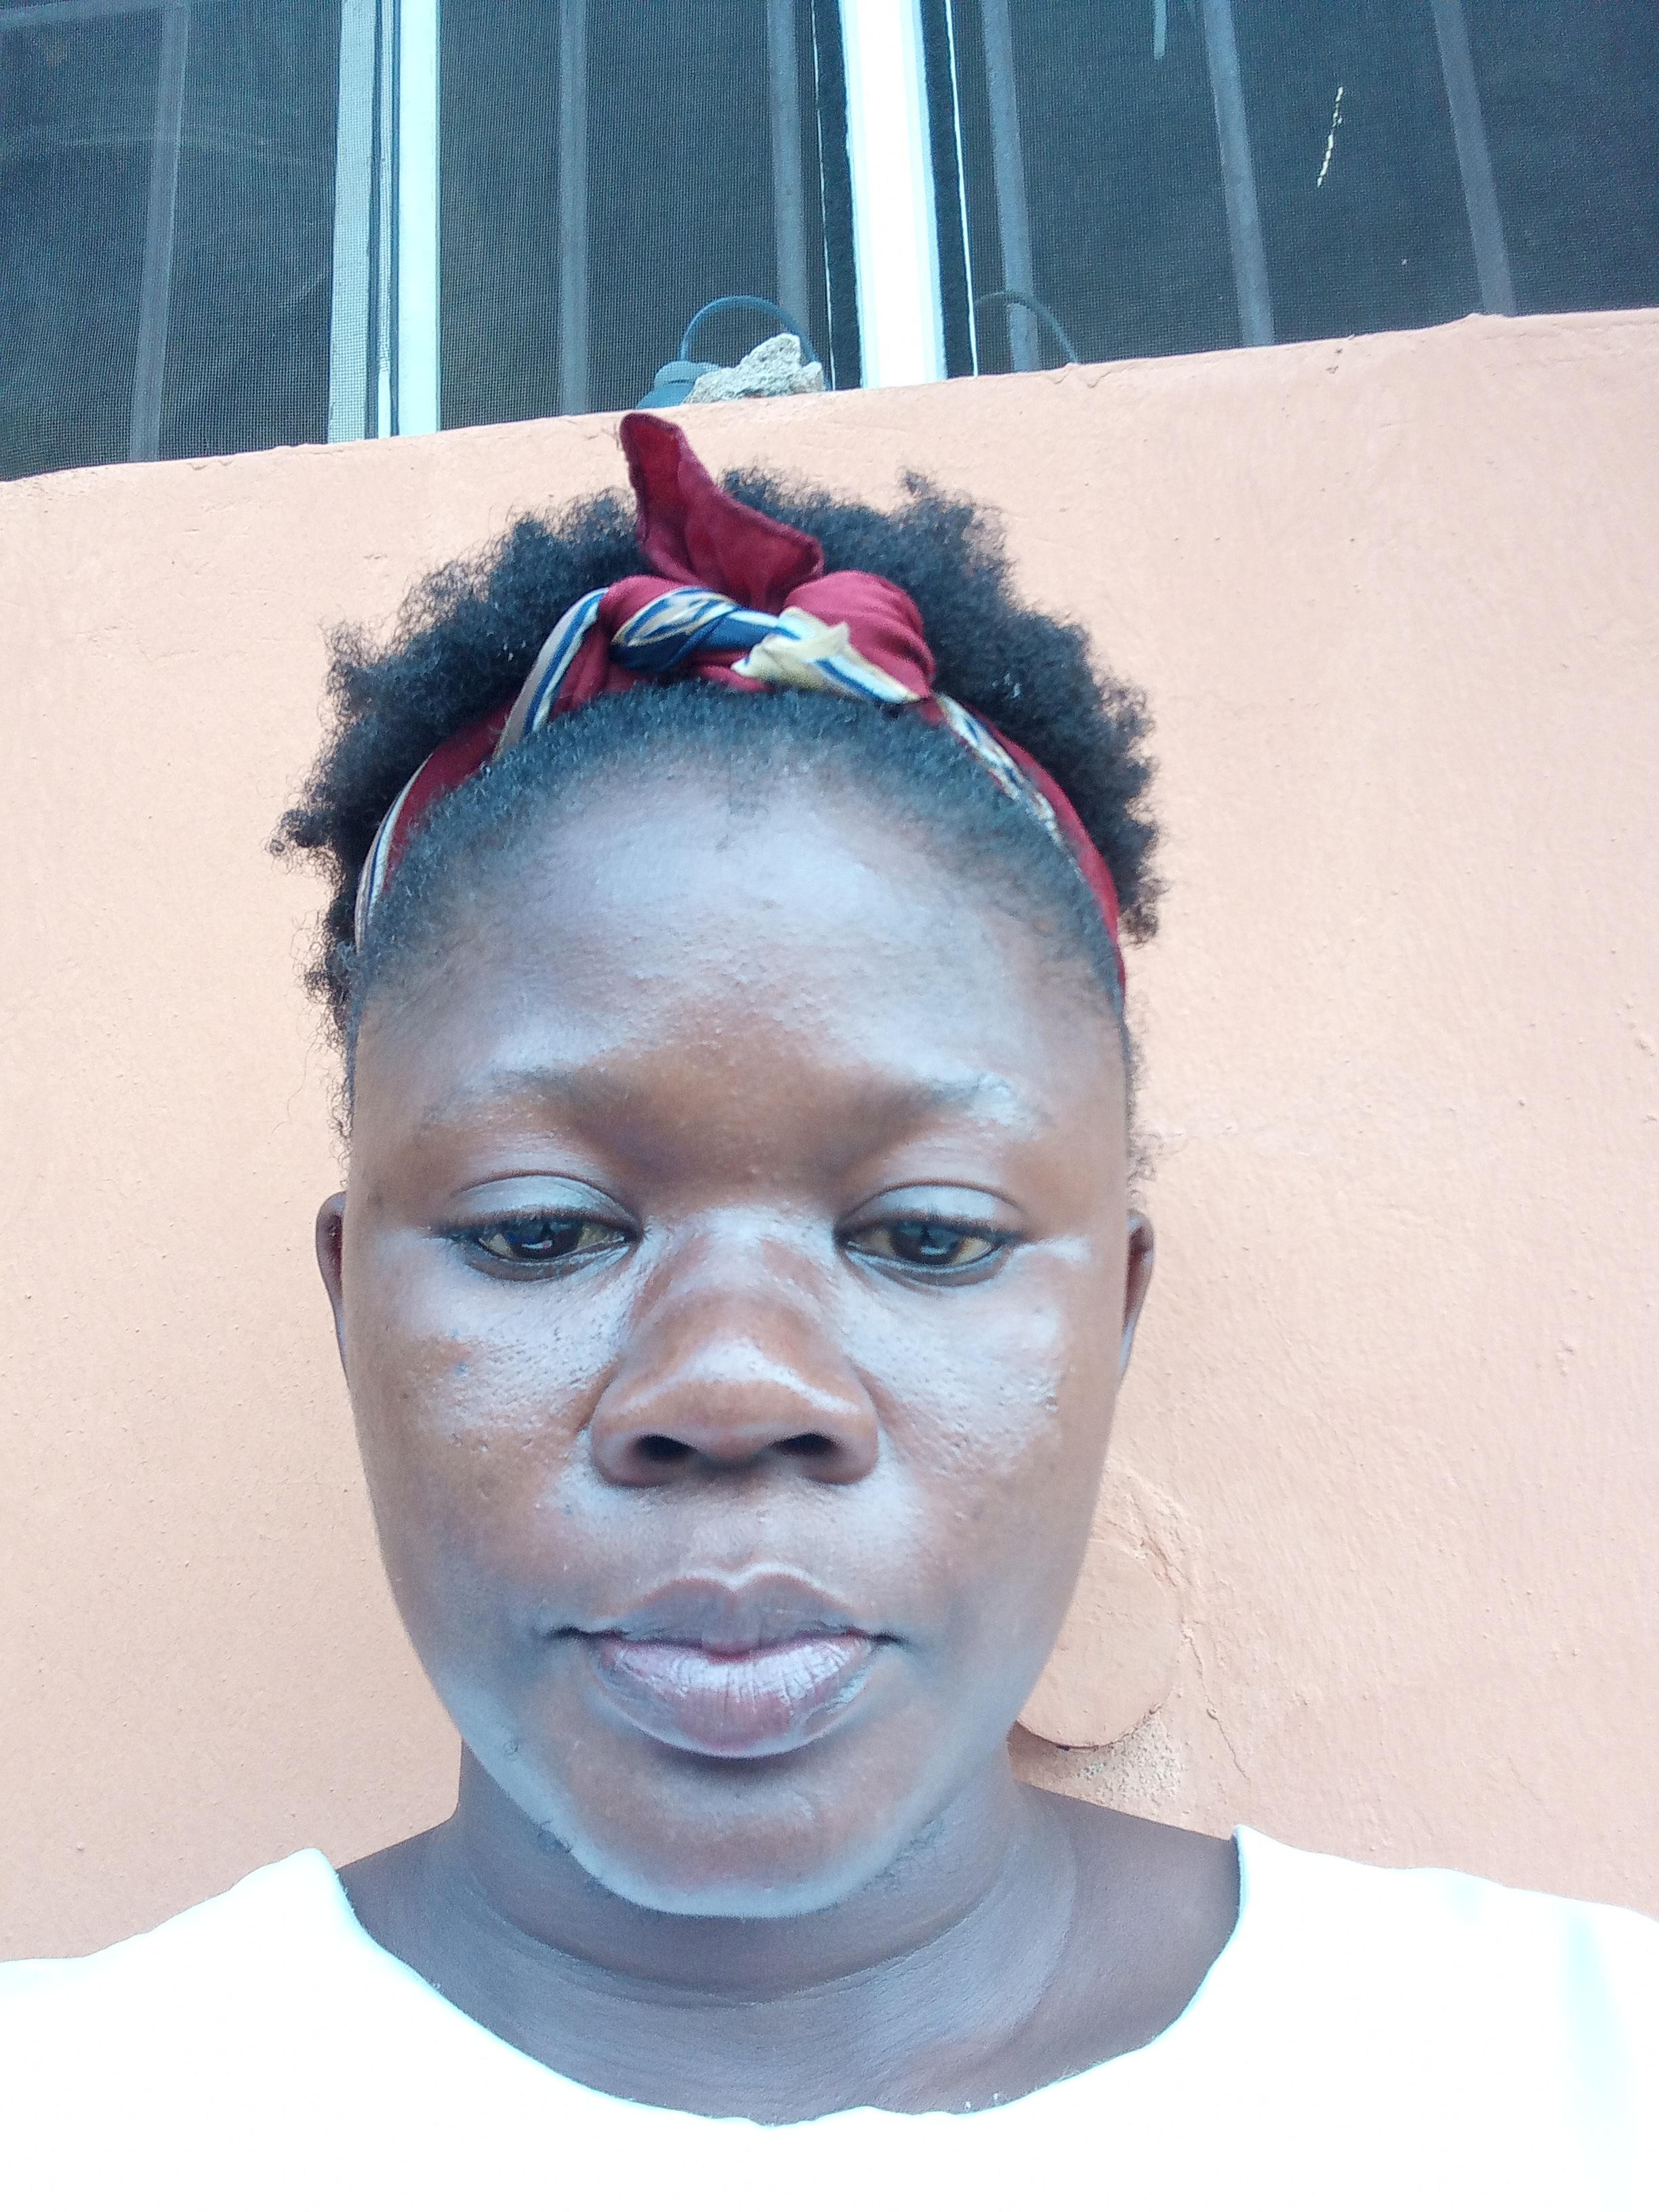Acne: (734, 1153, 798, 1221), (615, 956, 652, 995), (357, 1183, 383, 1219), (551, 1496, 577, 1526)
Blackheads: (671, 916, 817, 1076)
Englarged-Pores: (408, 1318, 587, 1460), (885, 1339, 972, 1480), (986, 1371, 1065, 1416), (580, 1310, 633, 1367)
